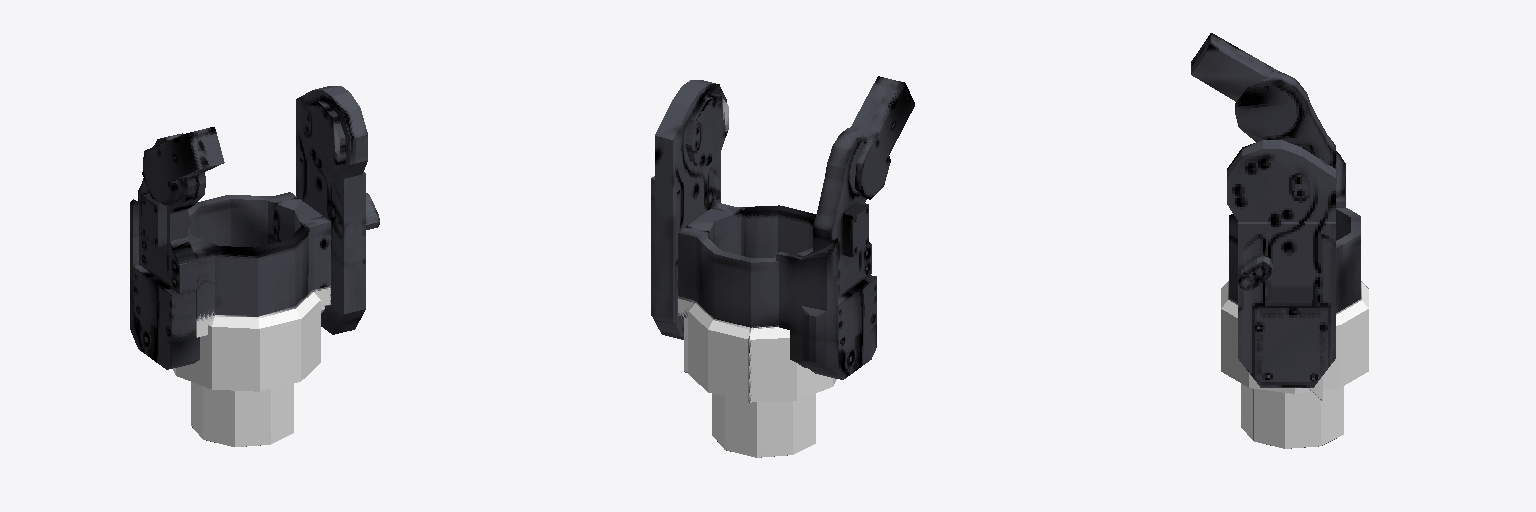
3 renders of one model, left to right at view 1: azimuth 30°, elevation 25°; view 2: azimuth 150°, elevation 25°; view 3: azimuth 270°, elevation 25°, orthographic.
Parts seen in each view (by area): view 1: r_scap; view 2: r_scap; view 3: r_scap.
Part boxes in pixels (bbox=[...]): r_scap: bbox=[130, 86, 379, 446]; r_scap: bbox=[651, 76, 914, 457]; r_scap: bbox=[1191, 33, 1368, 448].
Size of the model in its own units: 0.1718 by 0.2756 by 0.1279.
Materials: 1 (1 with a texture image).